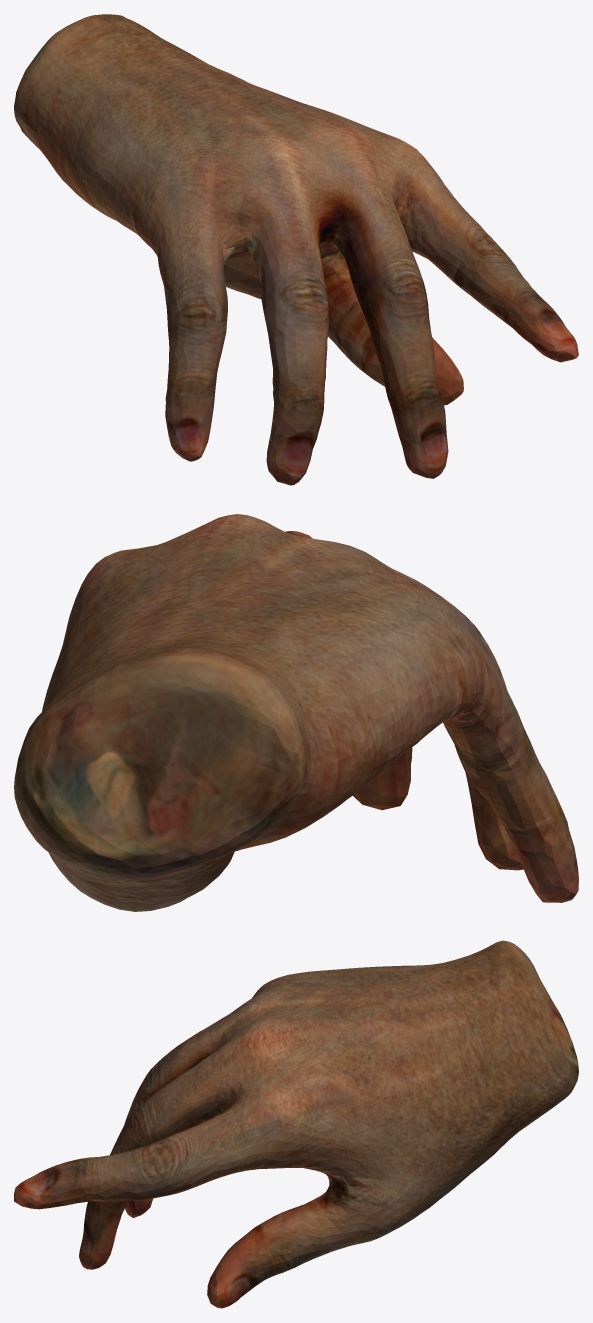
Rendered from skin.obj.
The picture shows the model from 3 angles, top to bottom: view 1: azimuth 30°, elevation 25°; view 2: azimuth 150°, elevation 25°; view 3: azimuth 270°, elevation 25°; orthographic projection. The views are drawn at different scales.
Size of the model in its own units: 102 by 95.03 by 177.
1 material, 1 textured.
